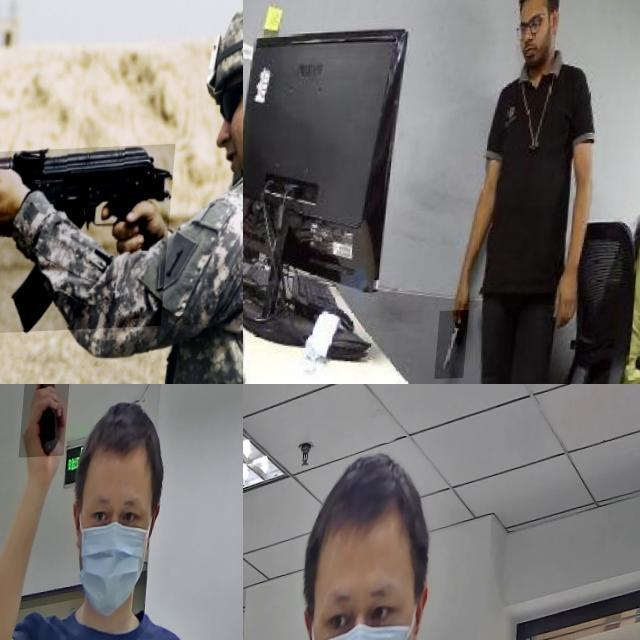-: (444, 313, 478, 382)
gun-knife-thesis - v11 Yolov5 augmented: (0, 147, 178, 341), (25, 384, 81, 471)
